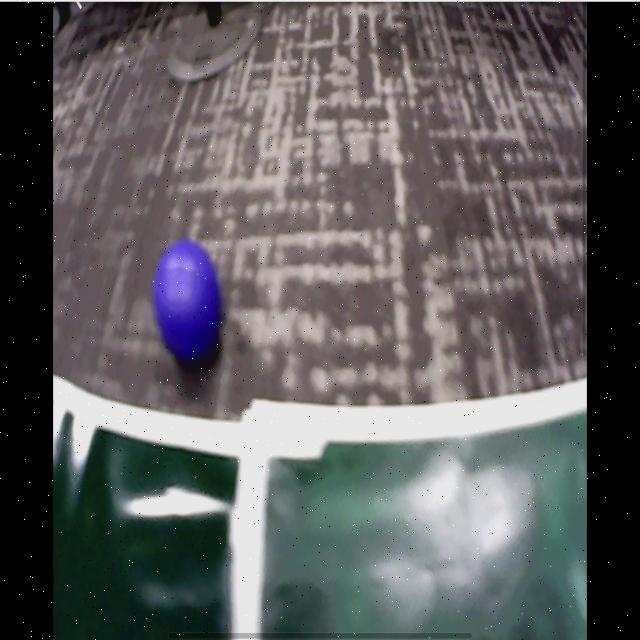ball: (156, 240, 222, 357)
